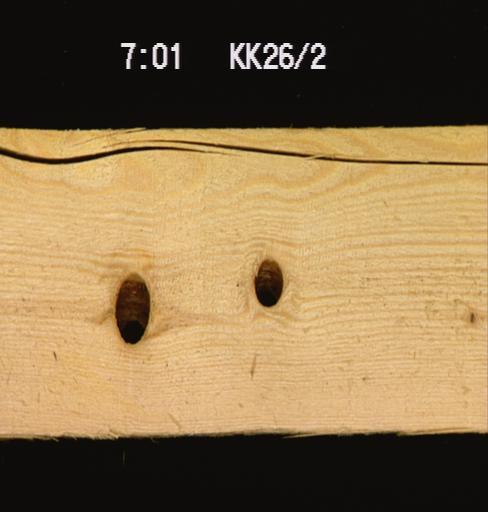split: (0, 135, 487, 169)
wave: (243, 410, 487, 443)
